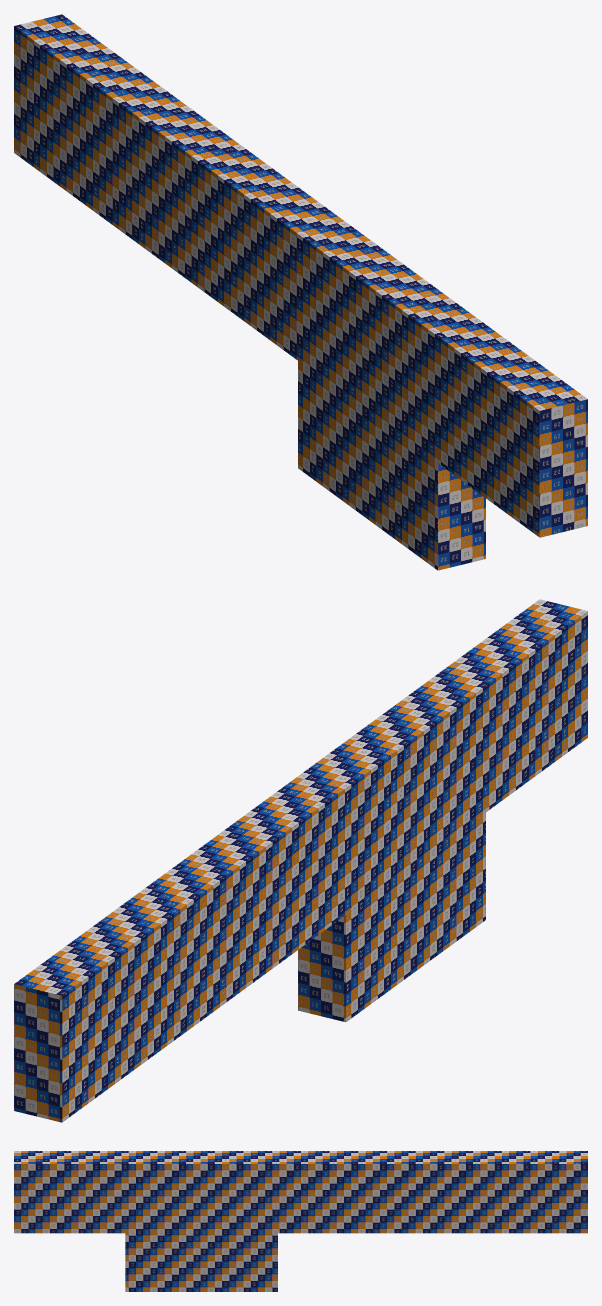
File: weapon.obj
3 renders of one model, top to bottom at view 1: azimuth 30°, elevation 25°; view 2: azimuth 150°, elevation 25°; view 3: azimuth 270°, elevation 25°, orthographic. The views are drawn at different scales.
Parts seen in each view (by area): view 1: Cube; view 2: Cube; view 3: Cube.
Part boxes in pixels (left/top/right/bottom): Cube: left=14, top=14, right=587, bottom=570; Cube: left=14, top=599, right=587, bottom=1122; Cube: left=14, top=1151, right=587, bottom=1291.
Bounding box in the file's own units: 0.0328 × 0.1526 × 0.6206.
Materials: 1 (1 with a texture image).
